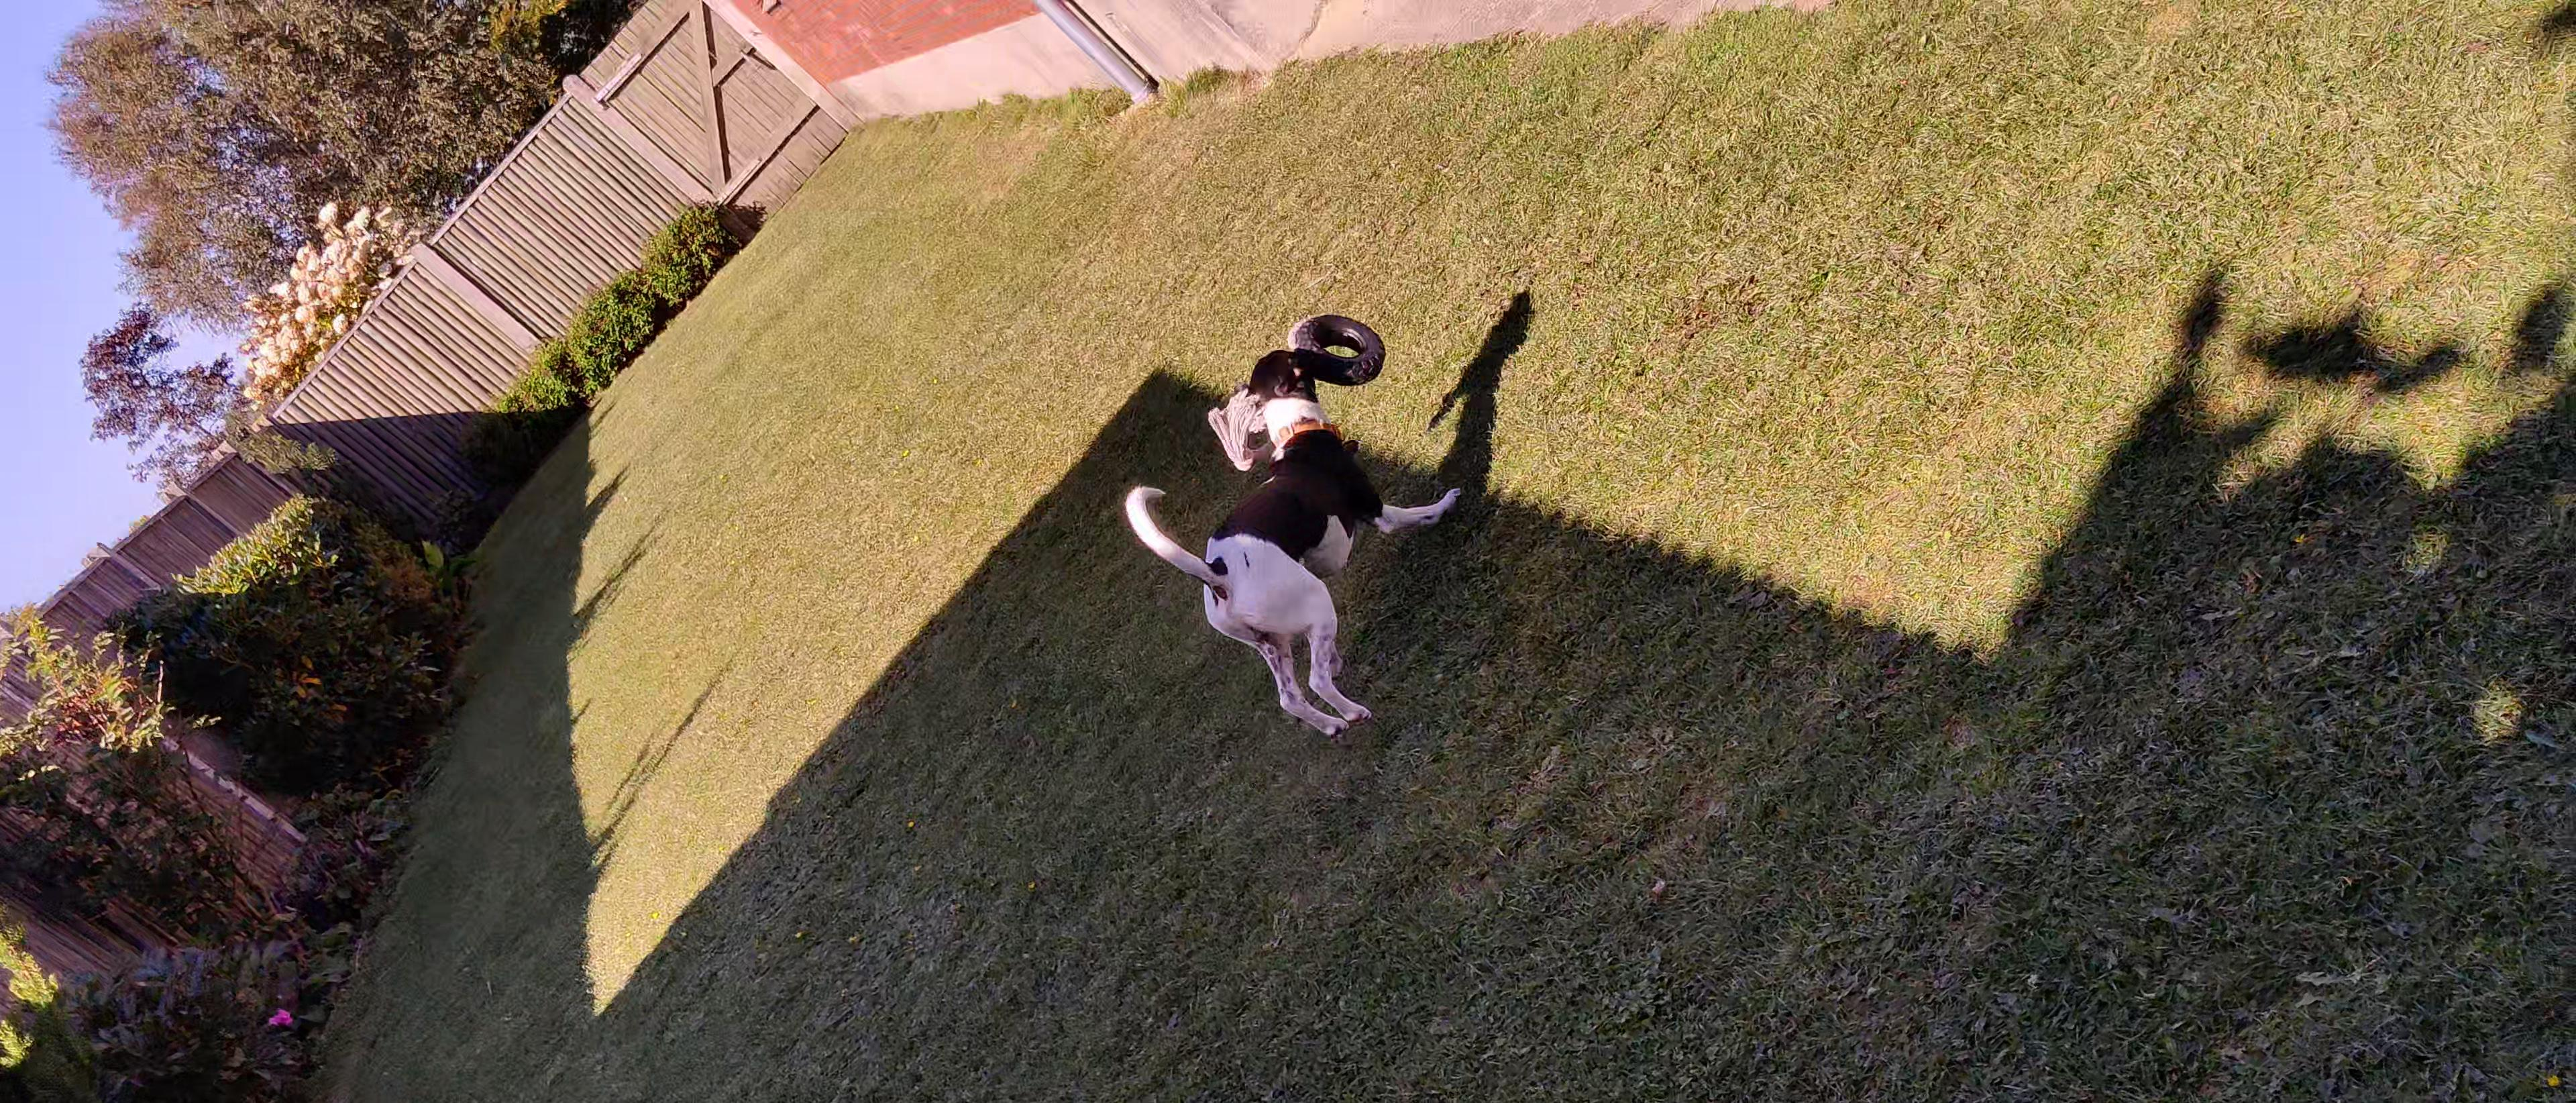Dog: (1111, 344, 1467, 743)
